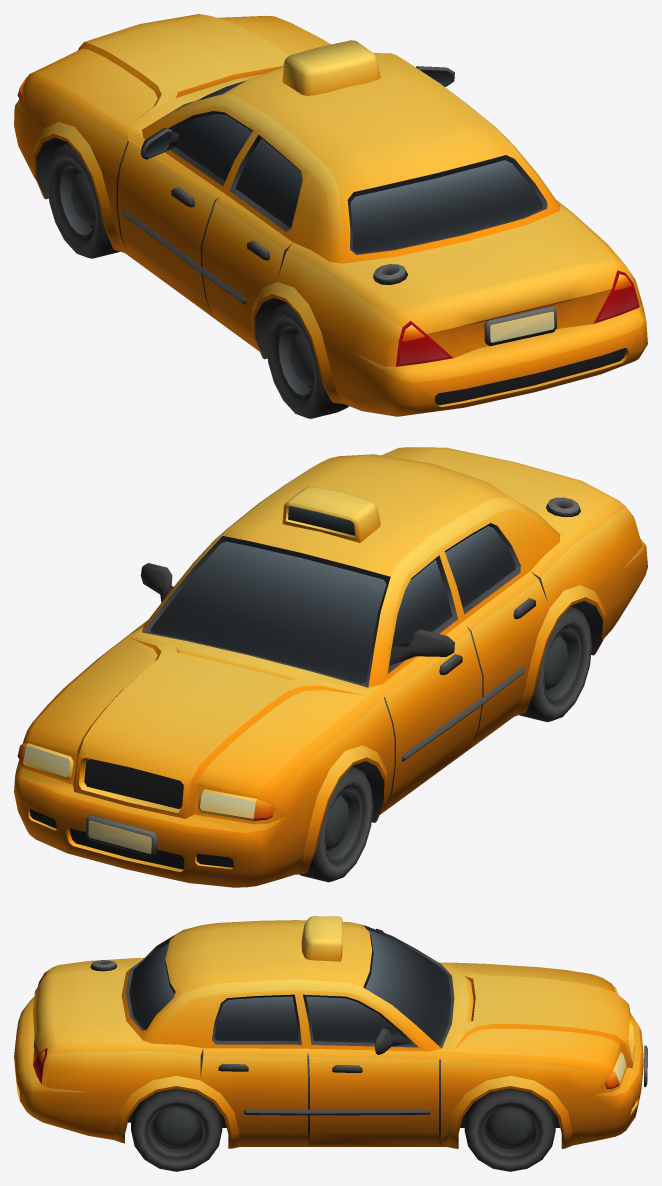
Rendered from CarLong.fbx.
3 renders of one model, top to bottom at view 1: azimuth 30°, elevation 25°; view 2: azimuth 150°, elevation 25°; view 3: azimuth 270°, elevation 25°, orthographic. The views are drawn at different scales.
Parts seen in each view (by area): view 1: Car_8A, Wheel_8A_R.L, Wheel_8A_F.L; view 2: Car_8A, Wheel_8A_R.L, Wheel_8A_F.L; view 3: Car_8A, Wheel_8A_R.R, Wheel_8A_F.R.
Part boxes in pixels (x1,y1,x2,y2): Car_8A: (14, 14, 647, 416); Wheel_8A_R.L: (266, 302, 348, 418); Wheel_8A_F.L: (47, 142, 119, 258); Car_8A: (14, 447, 647, 887); Wheel_8A_R.L: (519, 606, 591, 722); Wheel_8A_F.L: (299, 766, 373, 882); Car_8A: (14, 916, 647, 1148); Wheel_8A_R.R: (131, 1088, 222, 1171); Wheel_8A_F.R: (464, 1088, 555, 1171).
Size of the model in its own units: 1.6 by 1.26 by 3.68.
Materials: 1 (1 with a texture image).
